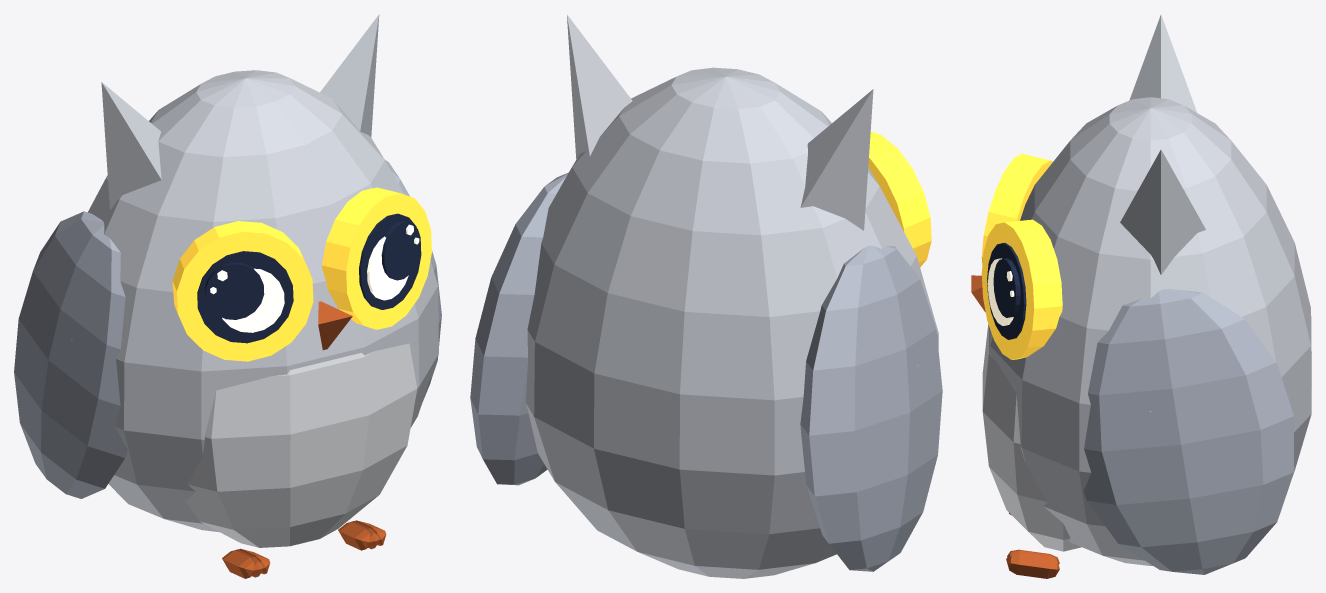
The model's file is owl.glb.
3 renders of one model, left to right at view 1: azimuth 30°, elevation 25°; view 2: azimuth 150°, elevation 25°; view 3: azimuth 270°, elevation 25°, orthographic. The views are drawn at different scales.
Visible parts, largest first — view 1: owl; view 2: owl; view 3: owl.
Boxes of the visible parts, box(x1,y1,x2,y2) form: owl: box(14, 14, 441, 578); owl: box(470, 14, 942, 578); owl: box(971, 14, 1311, 578).
Size of the model in its own units: 0.8263 by 0.9982 by 0.6622.
